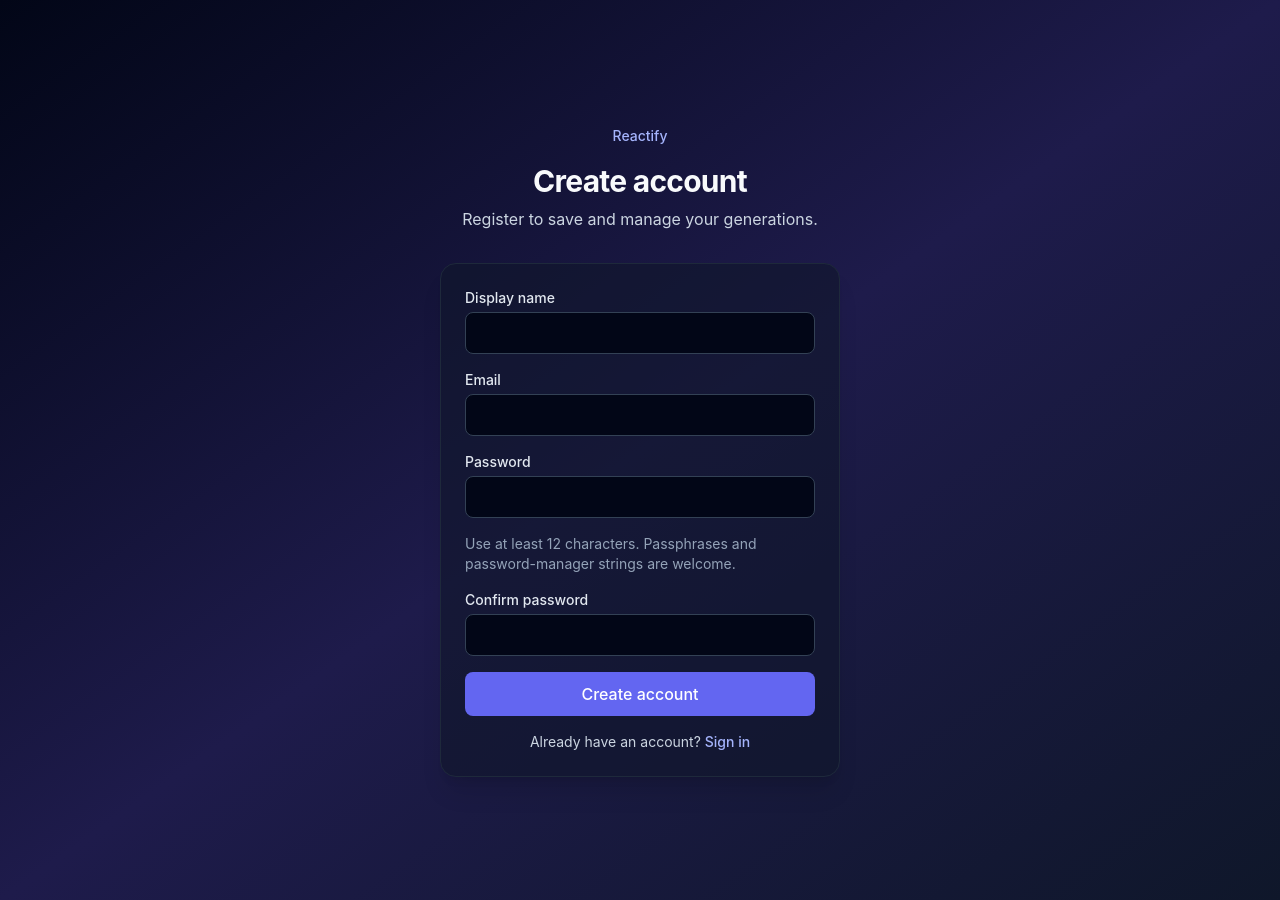
it: auth UI › validates password confirmation on registration
Type "Test User" into the field labelled "Display name" at (640, 333), box [465, 312, 815, 354]
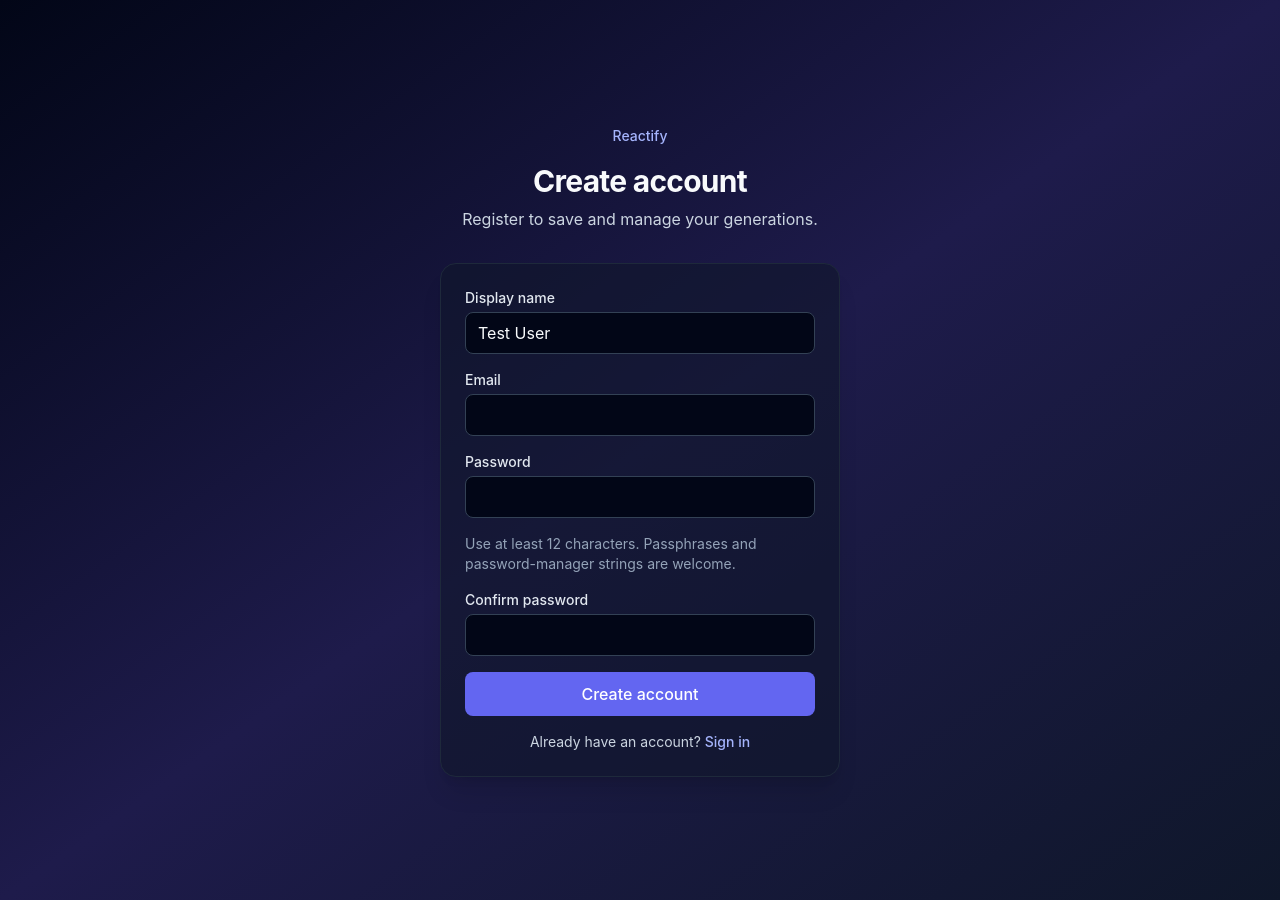
Type "user@example.com" into the field labelled "Email" at (640, 415), box [465, 394, 815, 436]
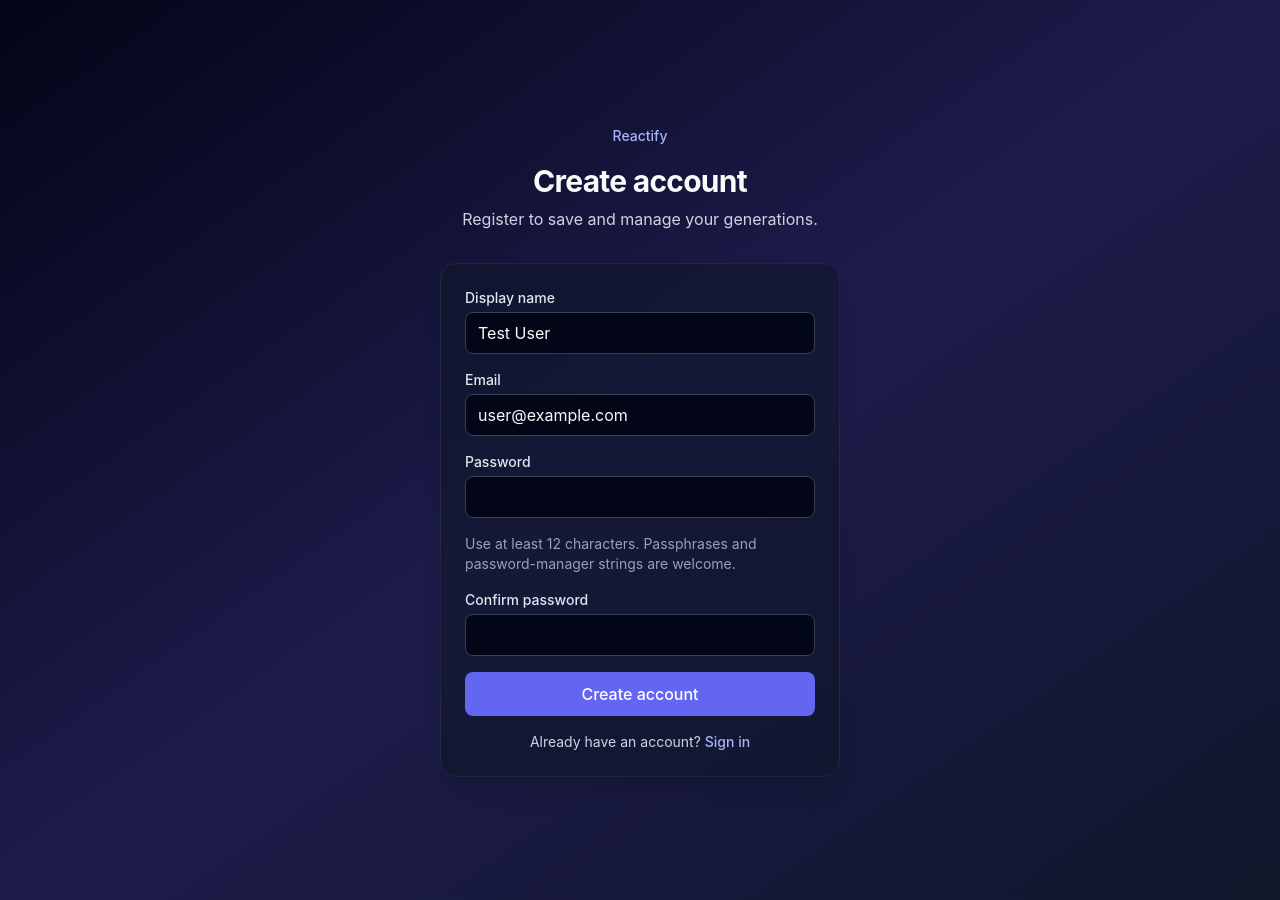
Type "secure-password-123" into the password field labelled "Password" at (640, 497), box [465, 476, 815, 518]
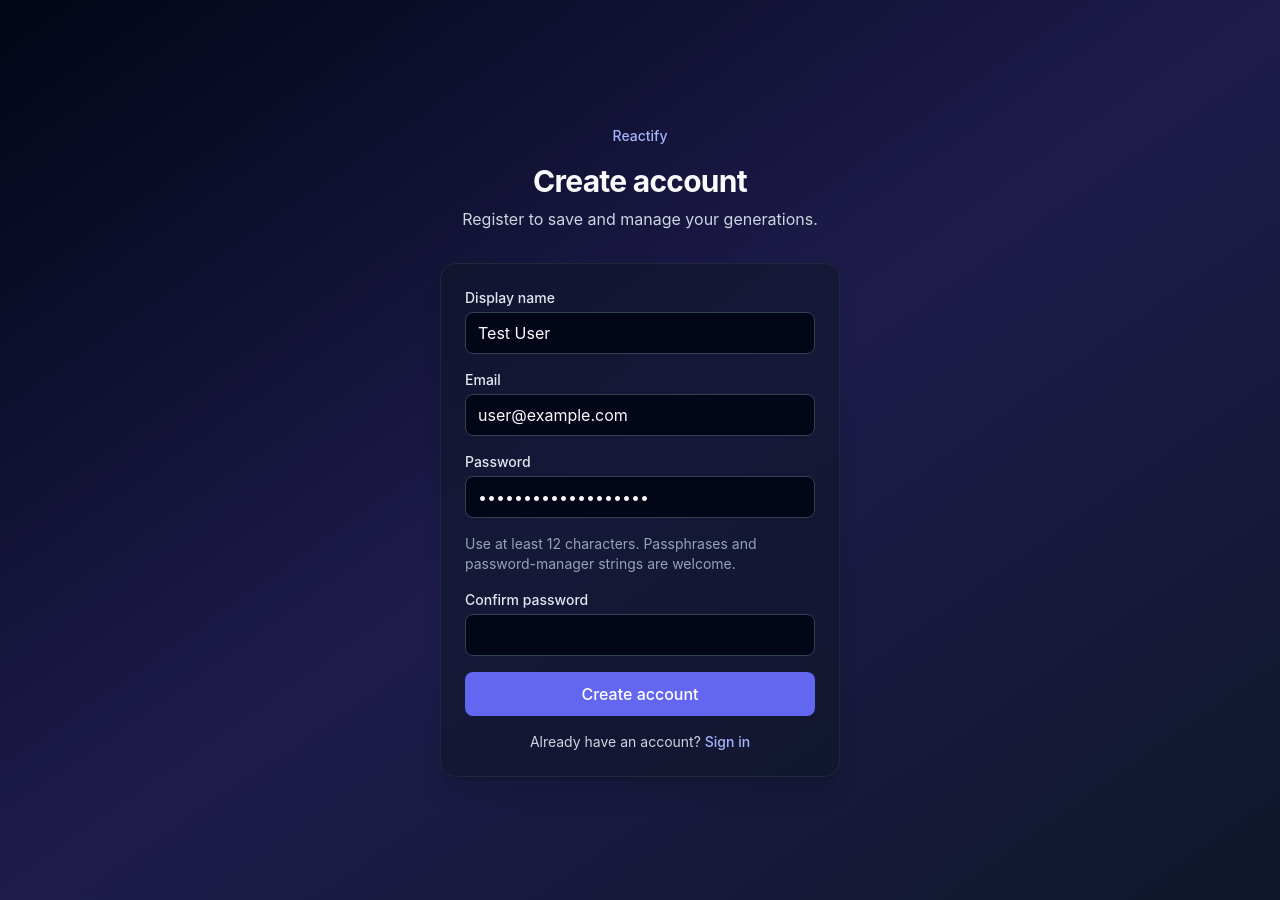
Type "different-password-123" into the password field labelled "Confirm password" at (640, 635), box [465, 614, 815, 656]
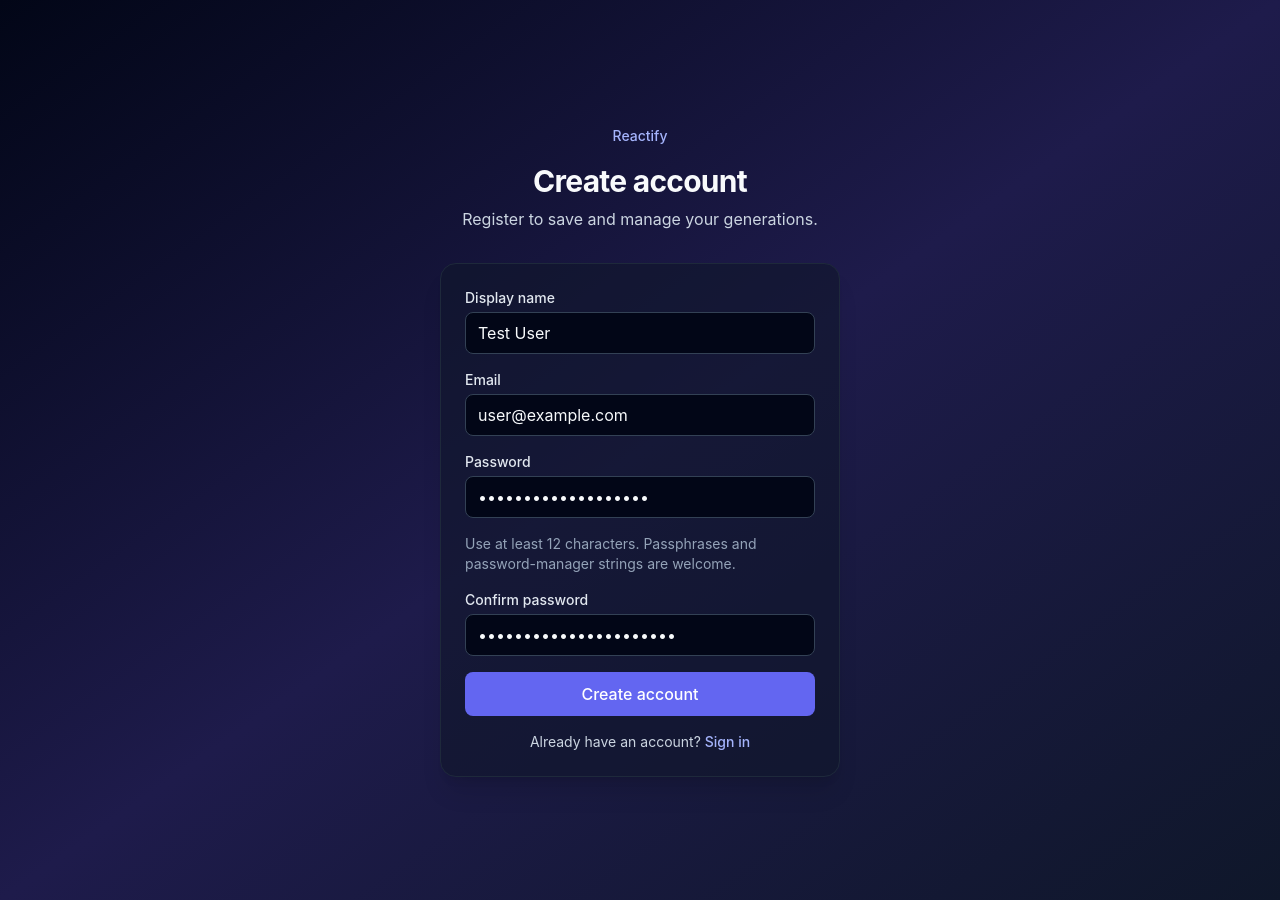
Click the button "Create account" at (640, 694), box [465, 672, 815, 716]
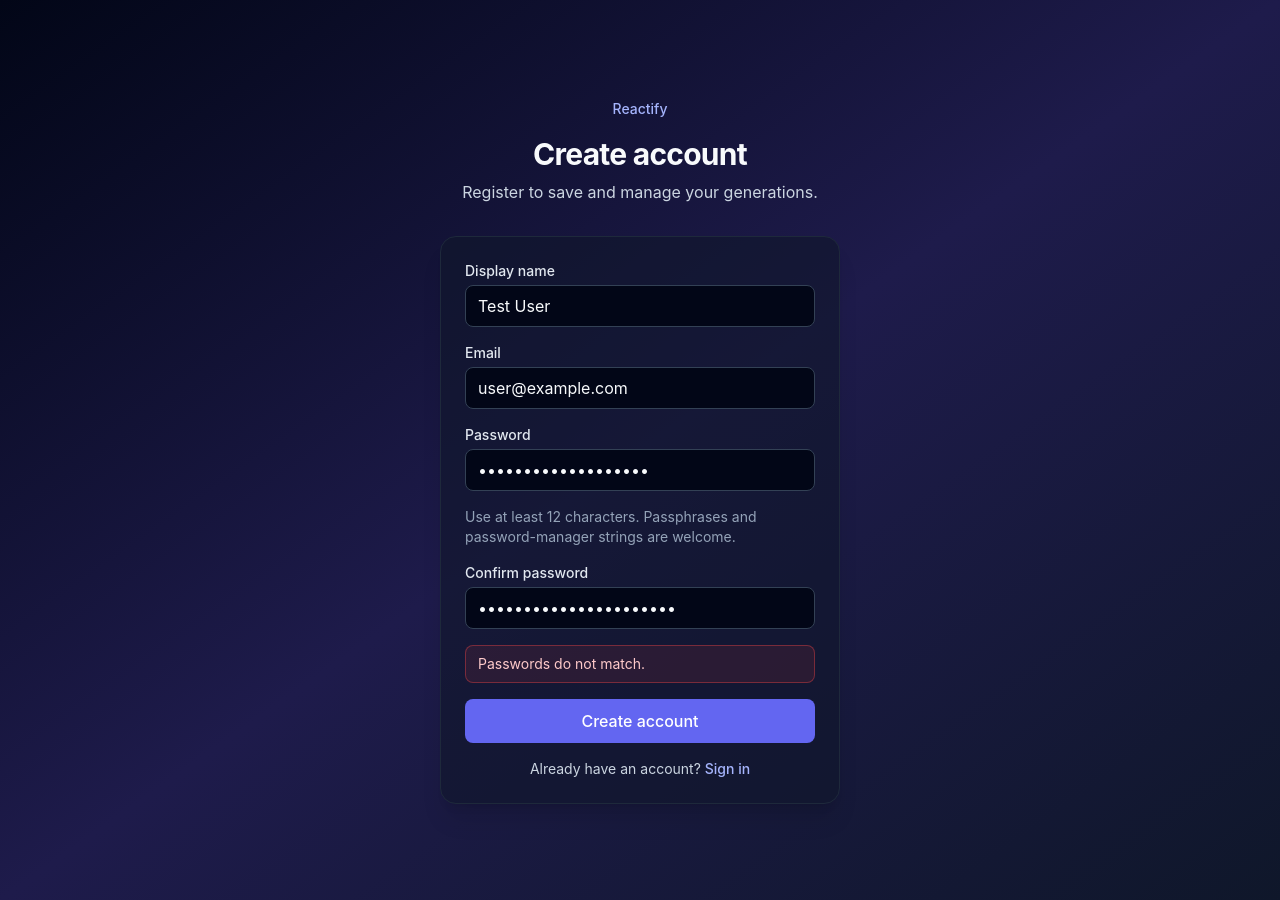
Expected: the message shows "Passwords do not match", [478, 655, 645, 672]
